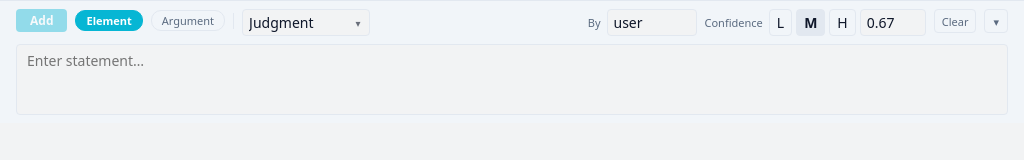
Scenario: adding an argument › will not add one whose conclusion is also a premise
This screenshot has width=1024, height=160.
Click the button "Argument": (188, 20) [151,10,225,31]
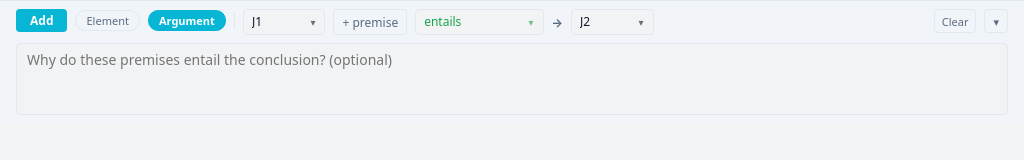
Click the dropdown named "Premise 1": (284, 22) [243,9,326,35]
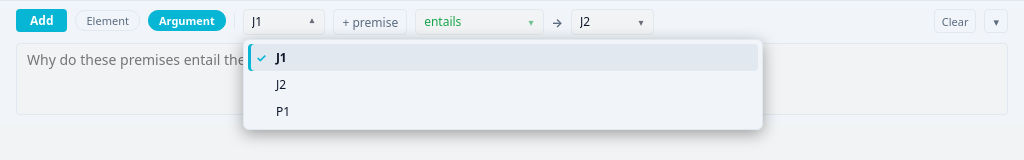
Click the option "P1": (283, 112) [276,103,290,120]
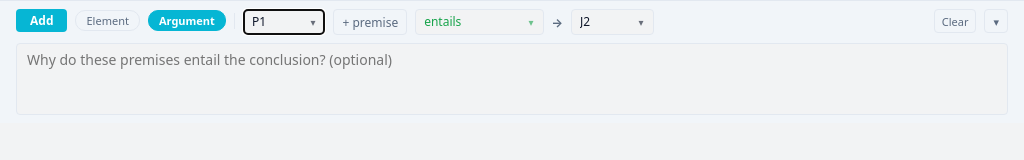
Click the dropdown named "Conclusion": (612, 22) [571,9,654,35]
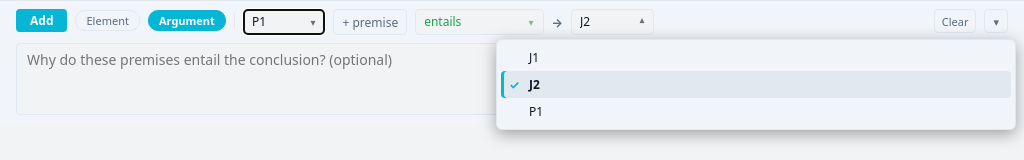
Click the option "P1": (536, 112) [529,103,543,120]
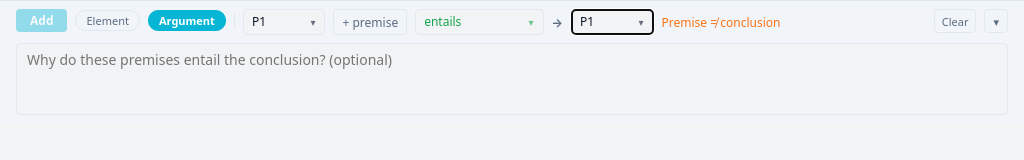
expect the button with aria-label "Add argument" is disabled: met, box [16,9,68,32]
expect the text "Premise ≠ conclusion" is shown: met, box [662,14,780,30]
